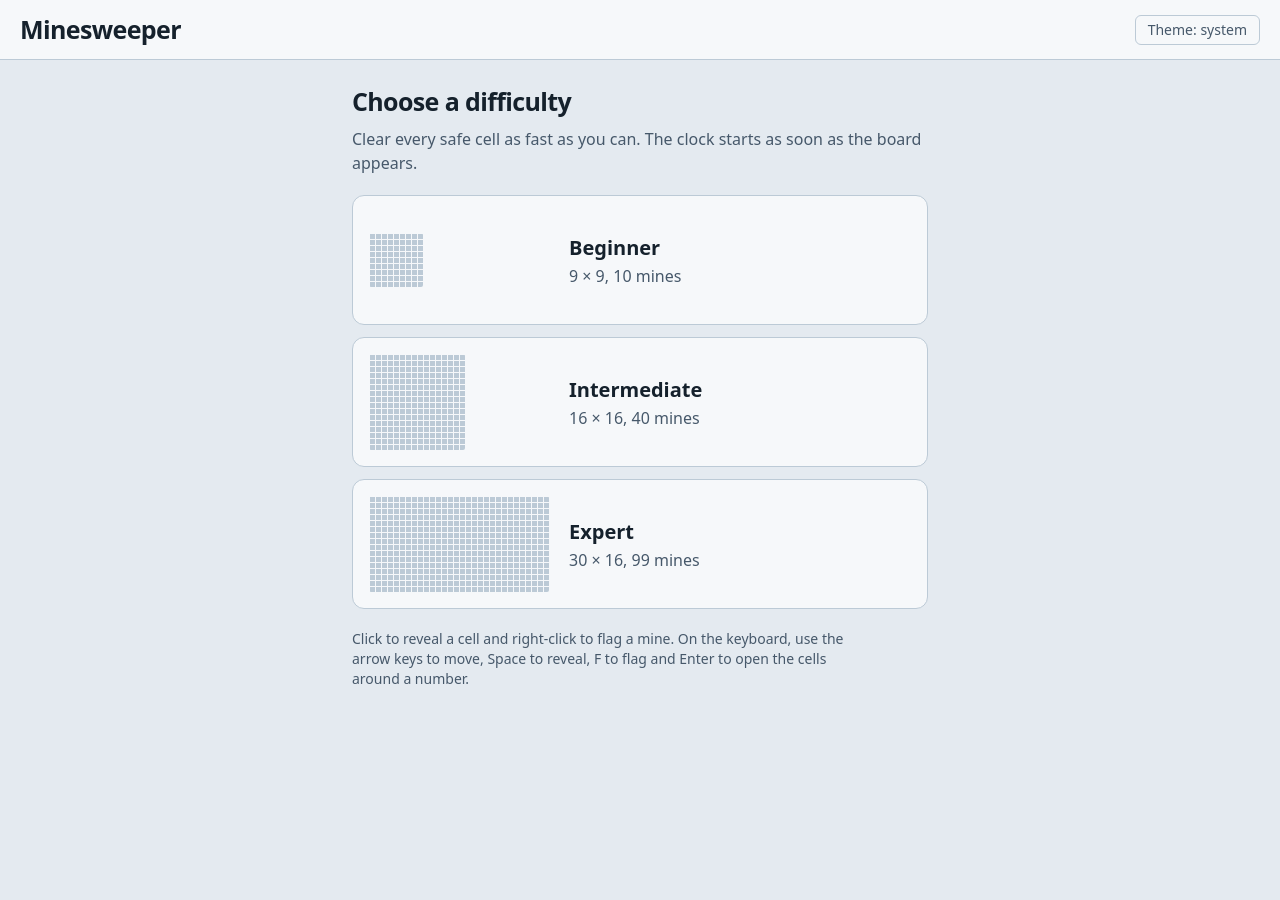
the live region of the app › keeps speaking after the play screen is gone: the loss is still in the region on the result screen
Click the button "Beginner 9 × 9, 10 mines". click: point(640, 260)
box: top-left (352, 195), bottom-right (928, 325)
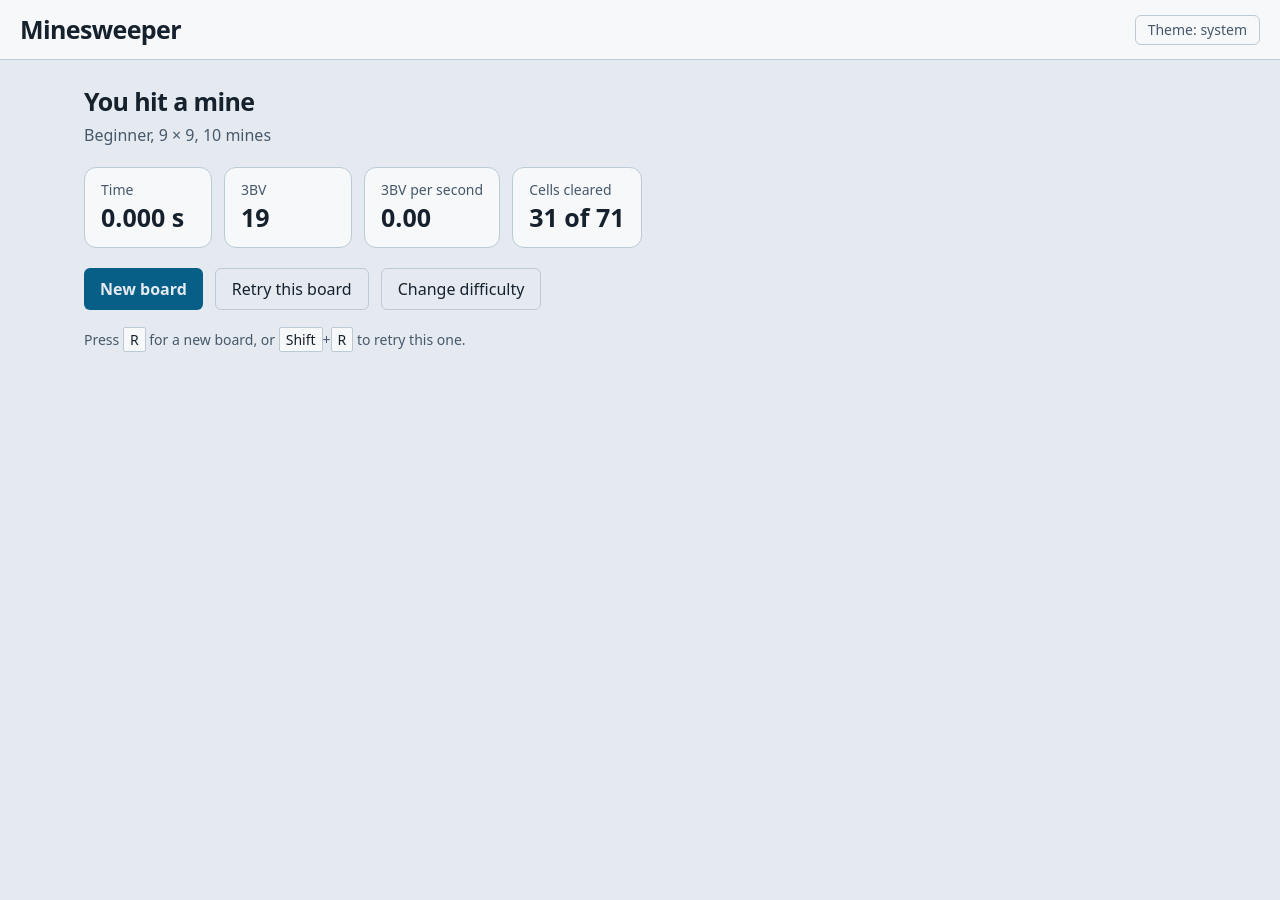
Check: the heading "You hit a mine" is shown, box top-left (84, 84), bottom-right (254, 118)
